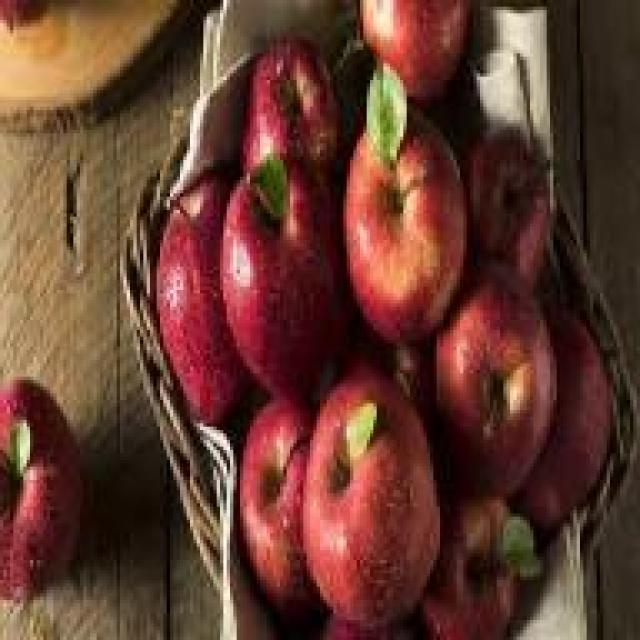apple: (320, 360, 443, 627), (343, 123, 470, 360), (230, 166, 350, 396), (443, 267, 560, 493), (516, 300, 626, 513), (3, 370, 94, 617), (160, 186, 257, 416), (240, 37, 357, 223), (236, 397, 336, 613), (424, 470, 534, 637), (357, 10, 473, 107)
